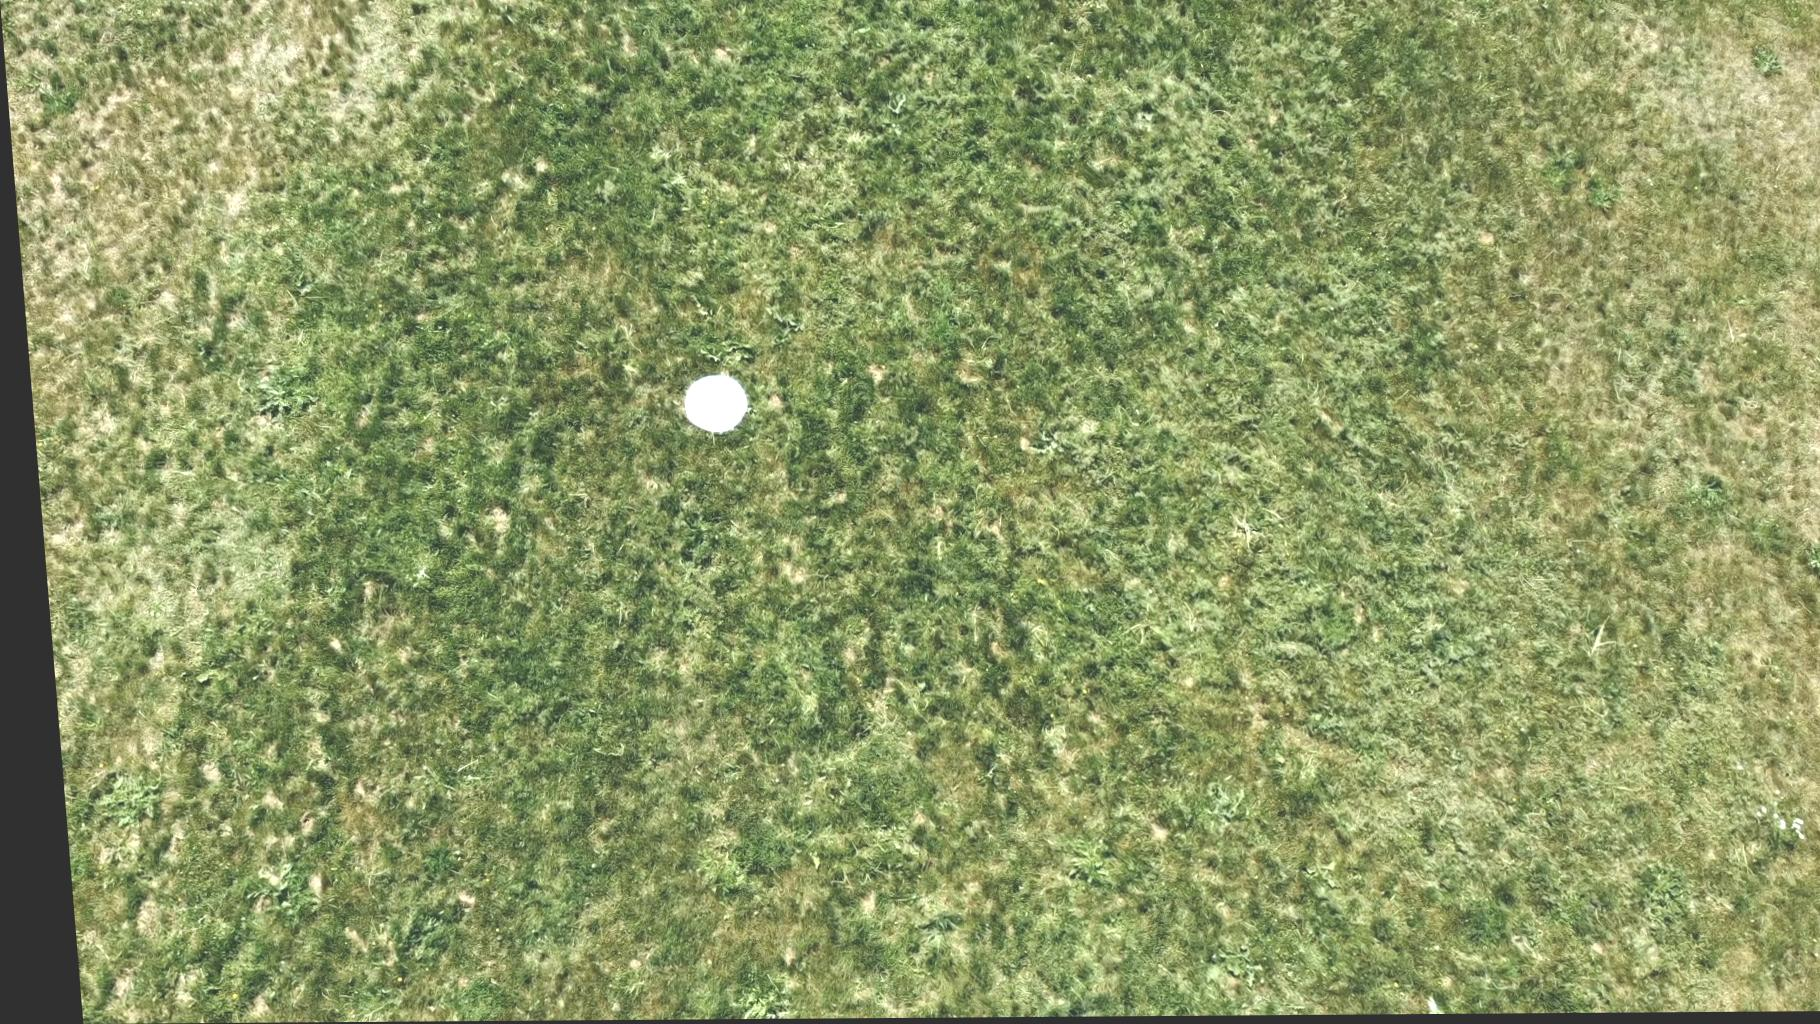Blue: (674, 374, 745, 436)
